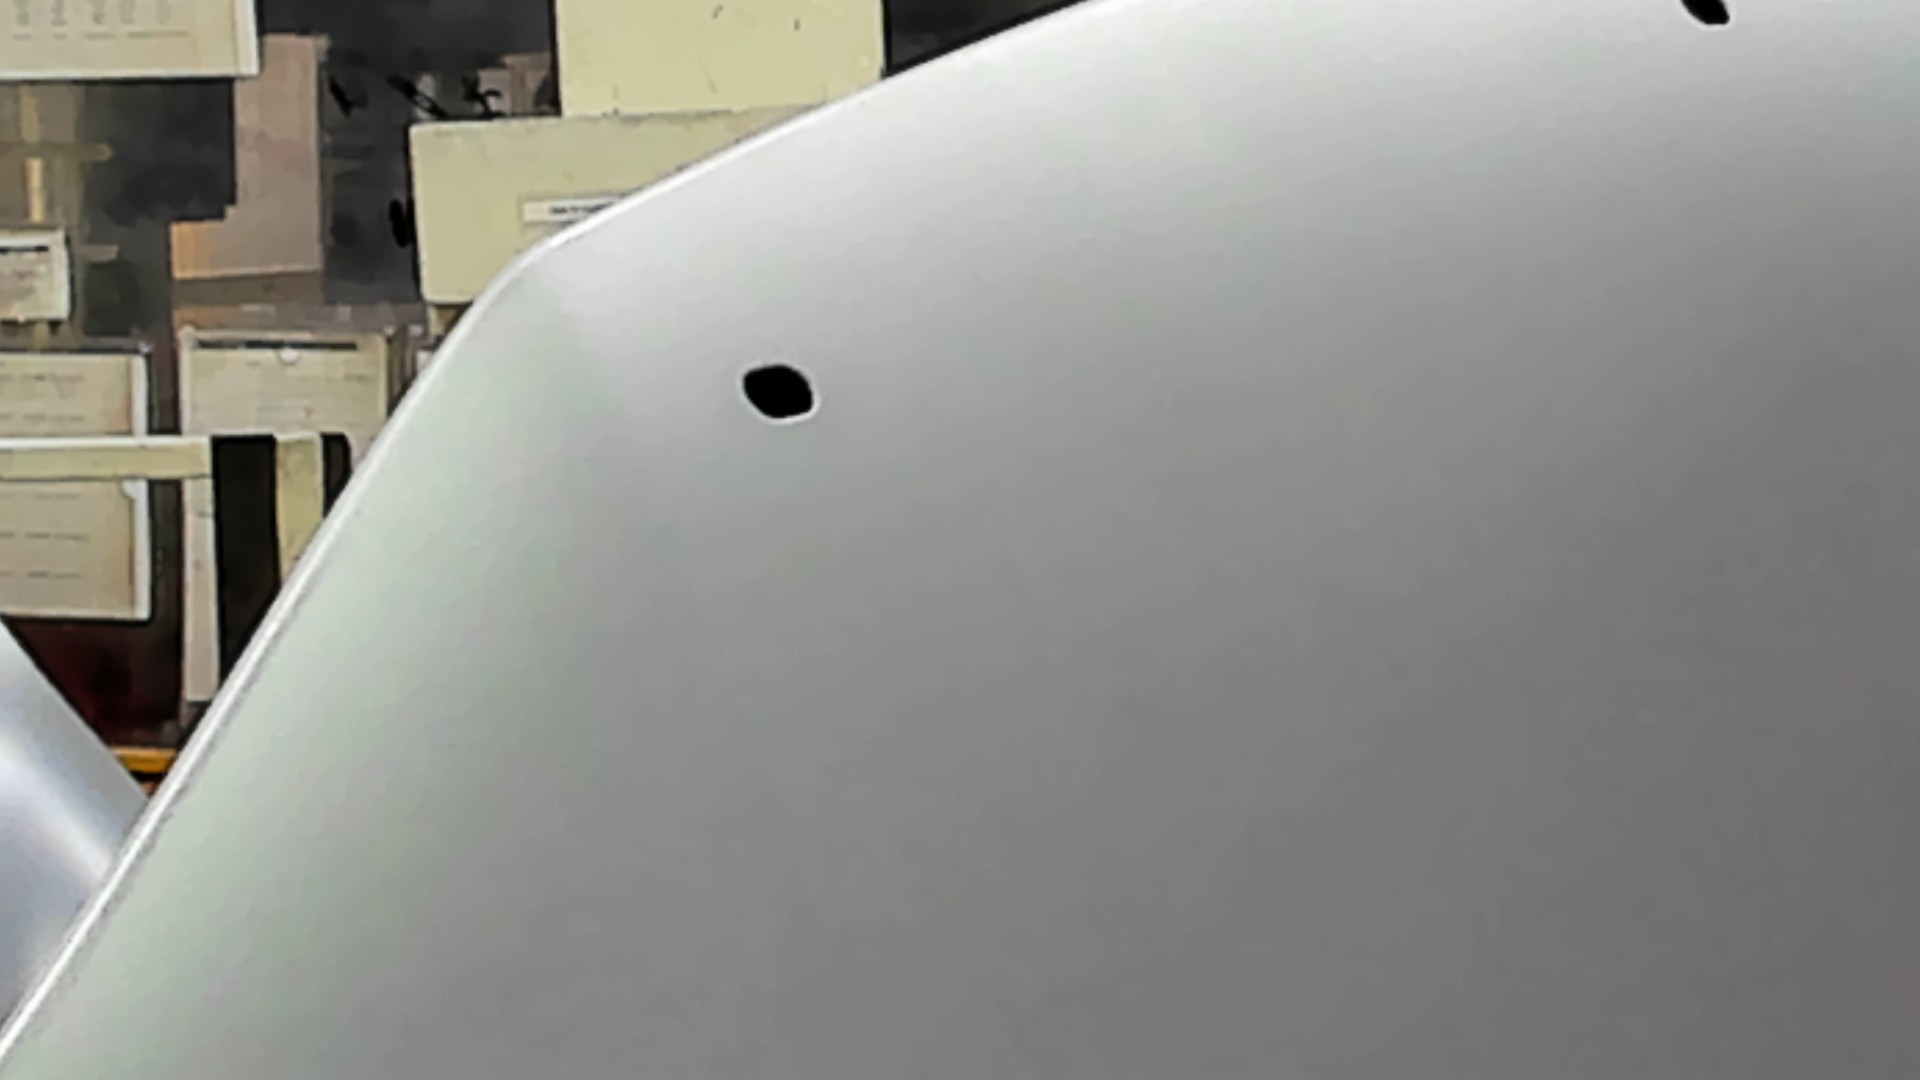amorfo: (735, 360, 822, 426), (1677, 1, 1737, 32)
capo: (955, 78, 1920, 1080)
